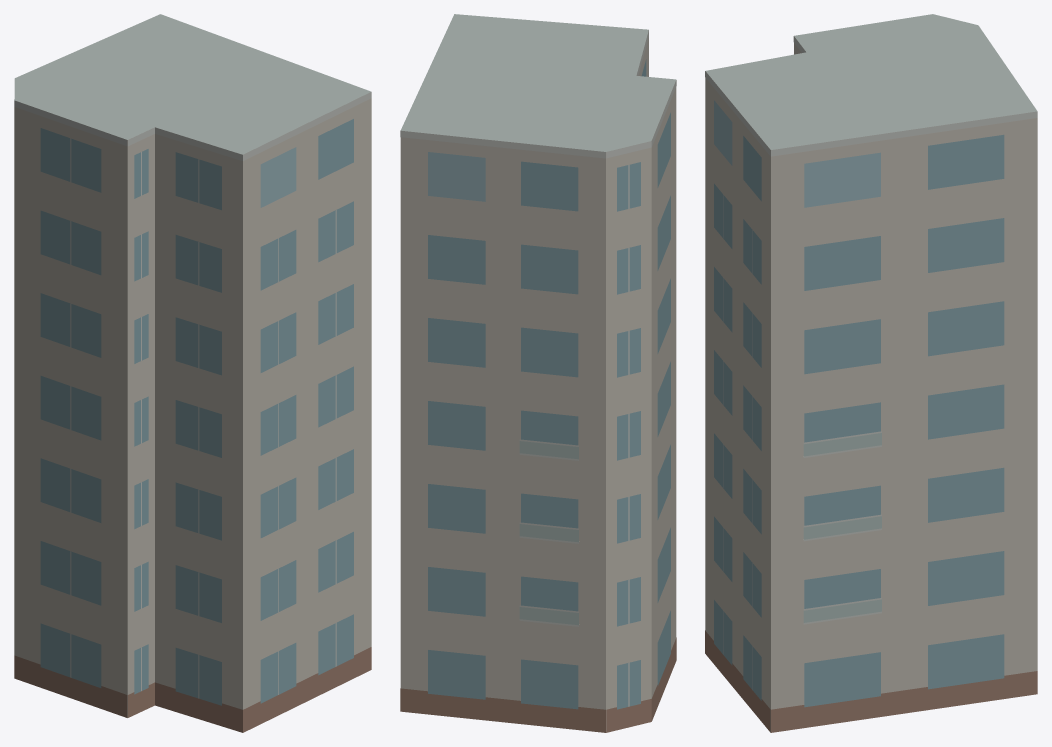
Rendered from survey-upis-32570848.glb.
3 views of the same model, side by side, from view 1: azimuth 30°, elevation 25°; view 2: azimuth 150°, elevation 25°; view 3: azimuth 270°, elevation 25° (orthographic).
Visible parts, largest first — view 1: survey-upis-32570848.tmp; view 2: survey-upis-32570848.tmp; view 3: survey-upis-32570848.tmp.
Boxes of the visible parts, x1,y1,x2,y2 form: survey-upis-32570848.tmp: (14,14,371,732); survey-upis-32570848.tmp: (400,14,676,732); survey-upis-32570848.tmp: (705,14,1037,732).
Bounding box in the file's own units: 10.93 × 21.8 × 11.28.
